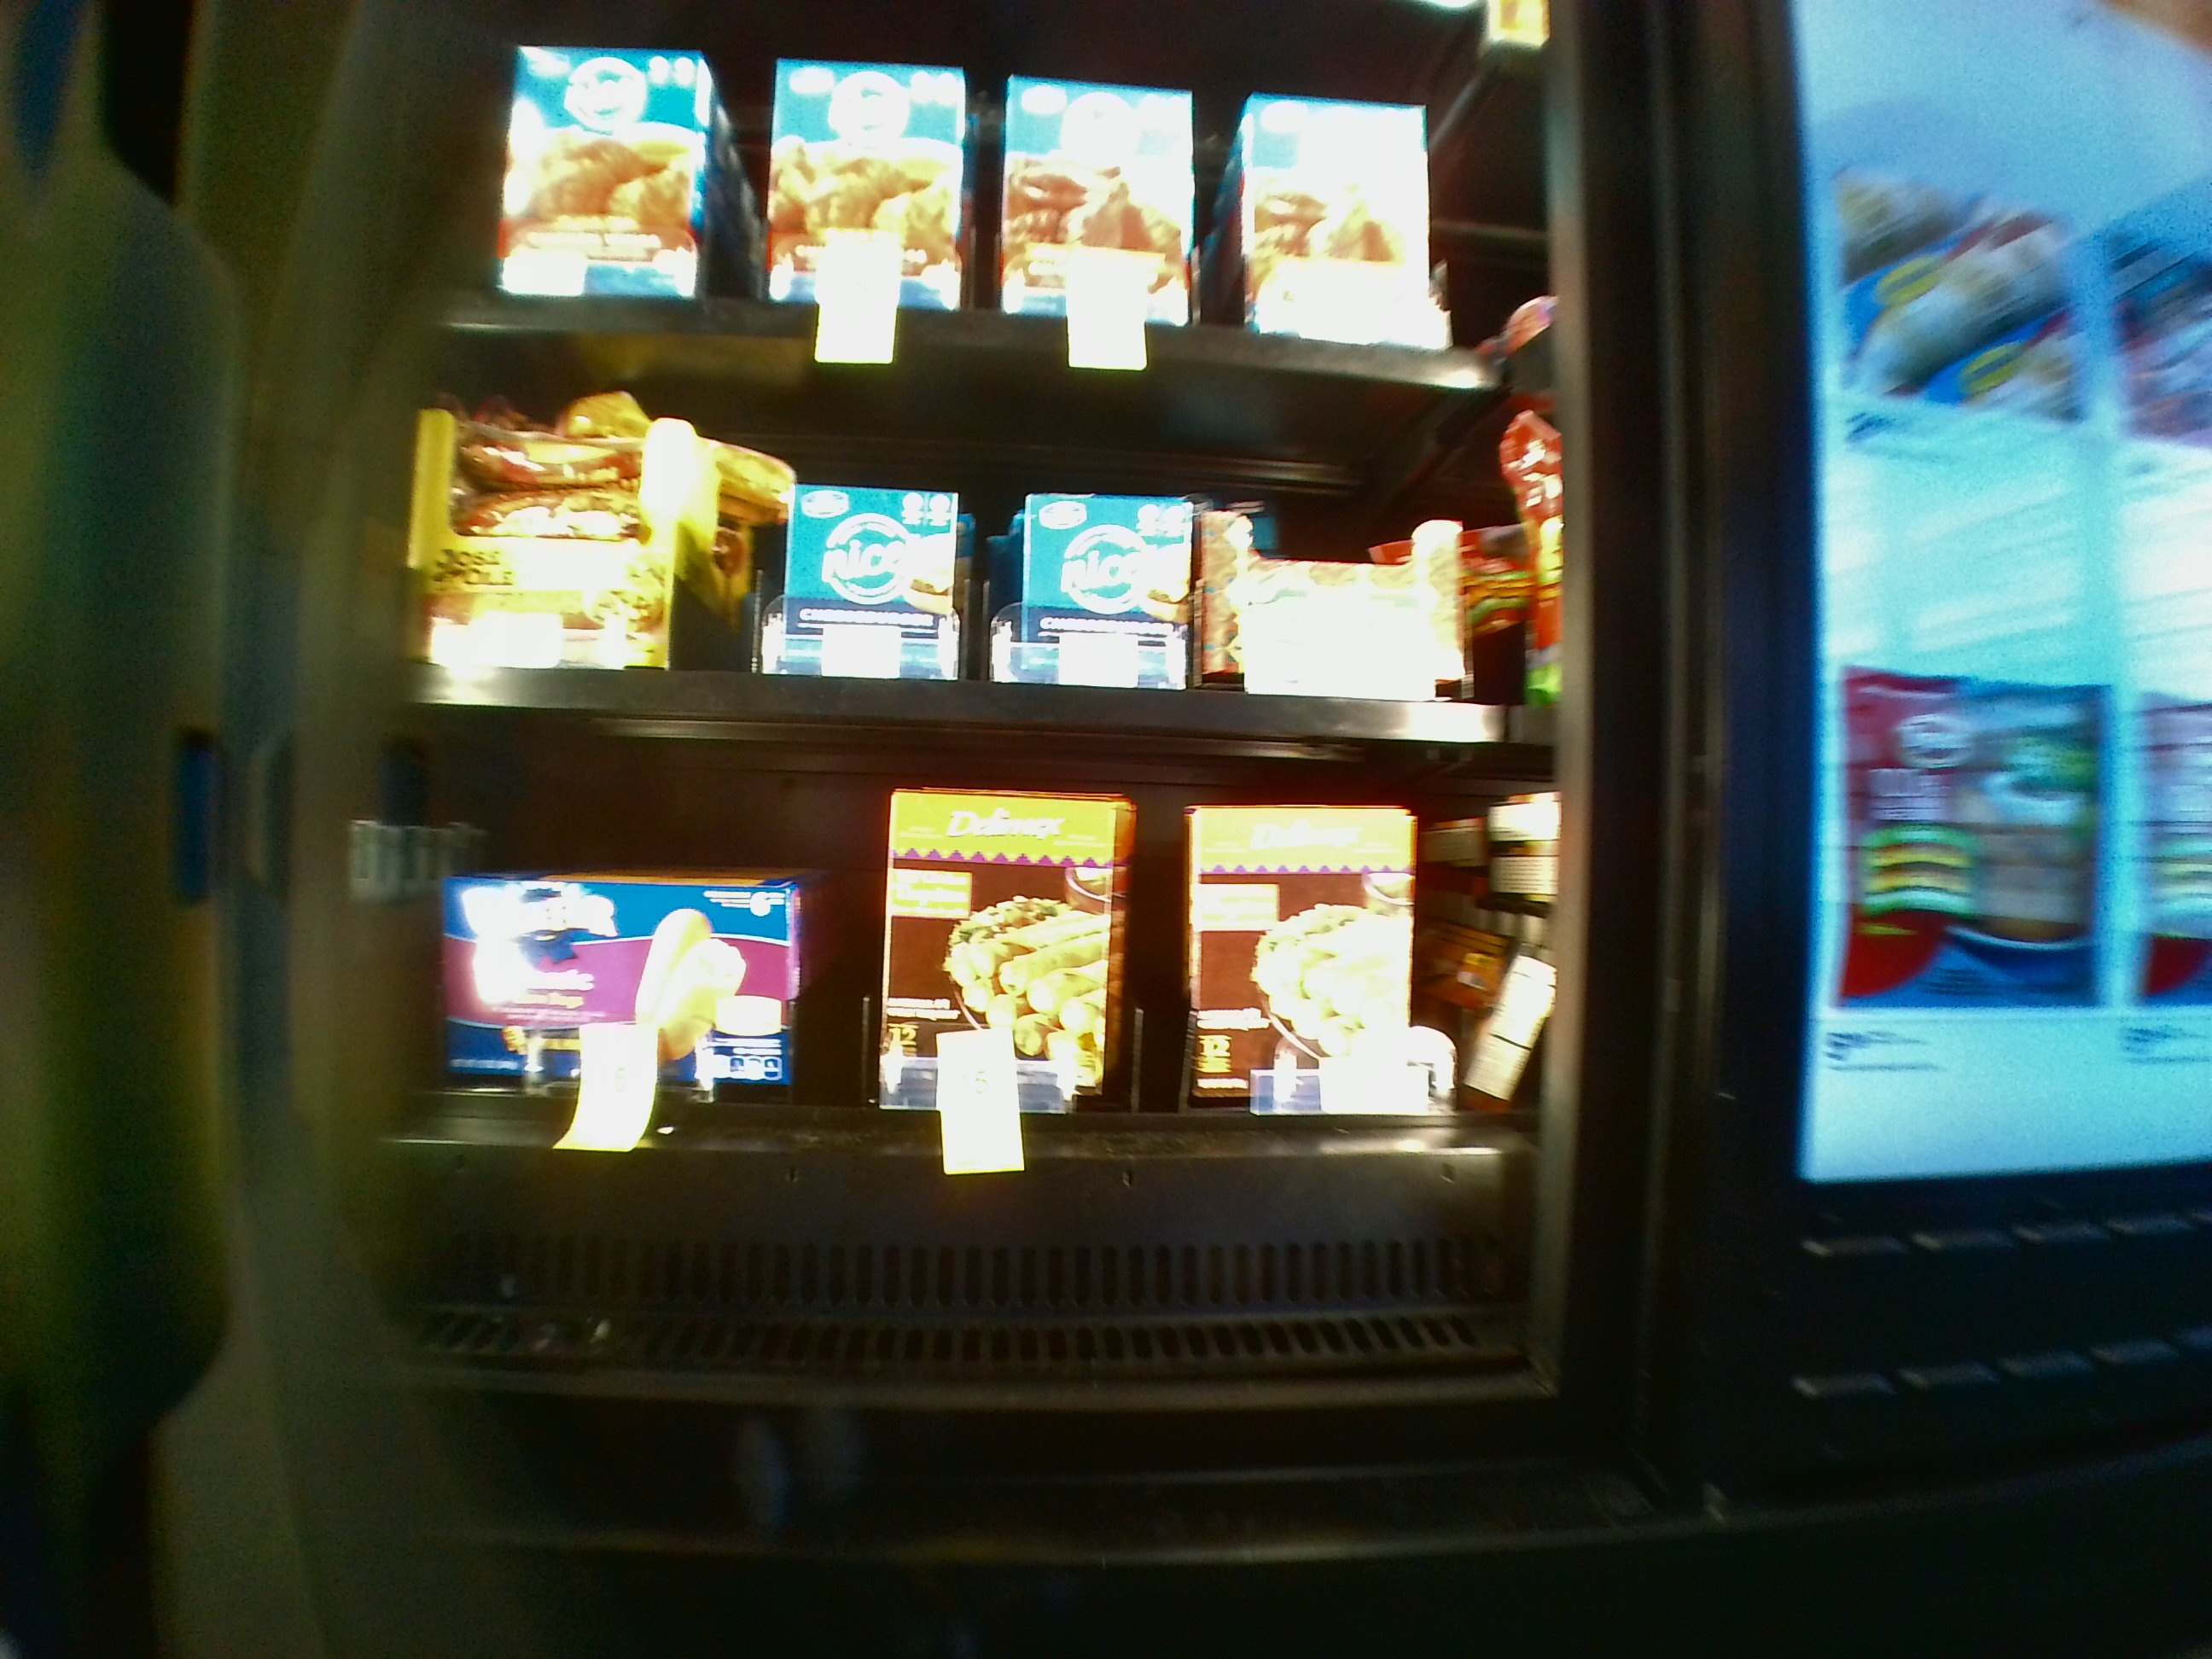shelf: (388, 769, 1550, 1377), (388, 336, 1548, 751)
